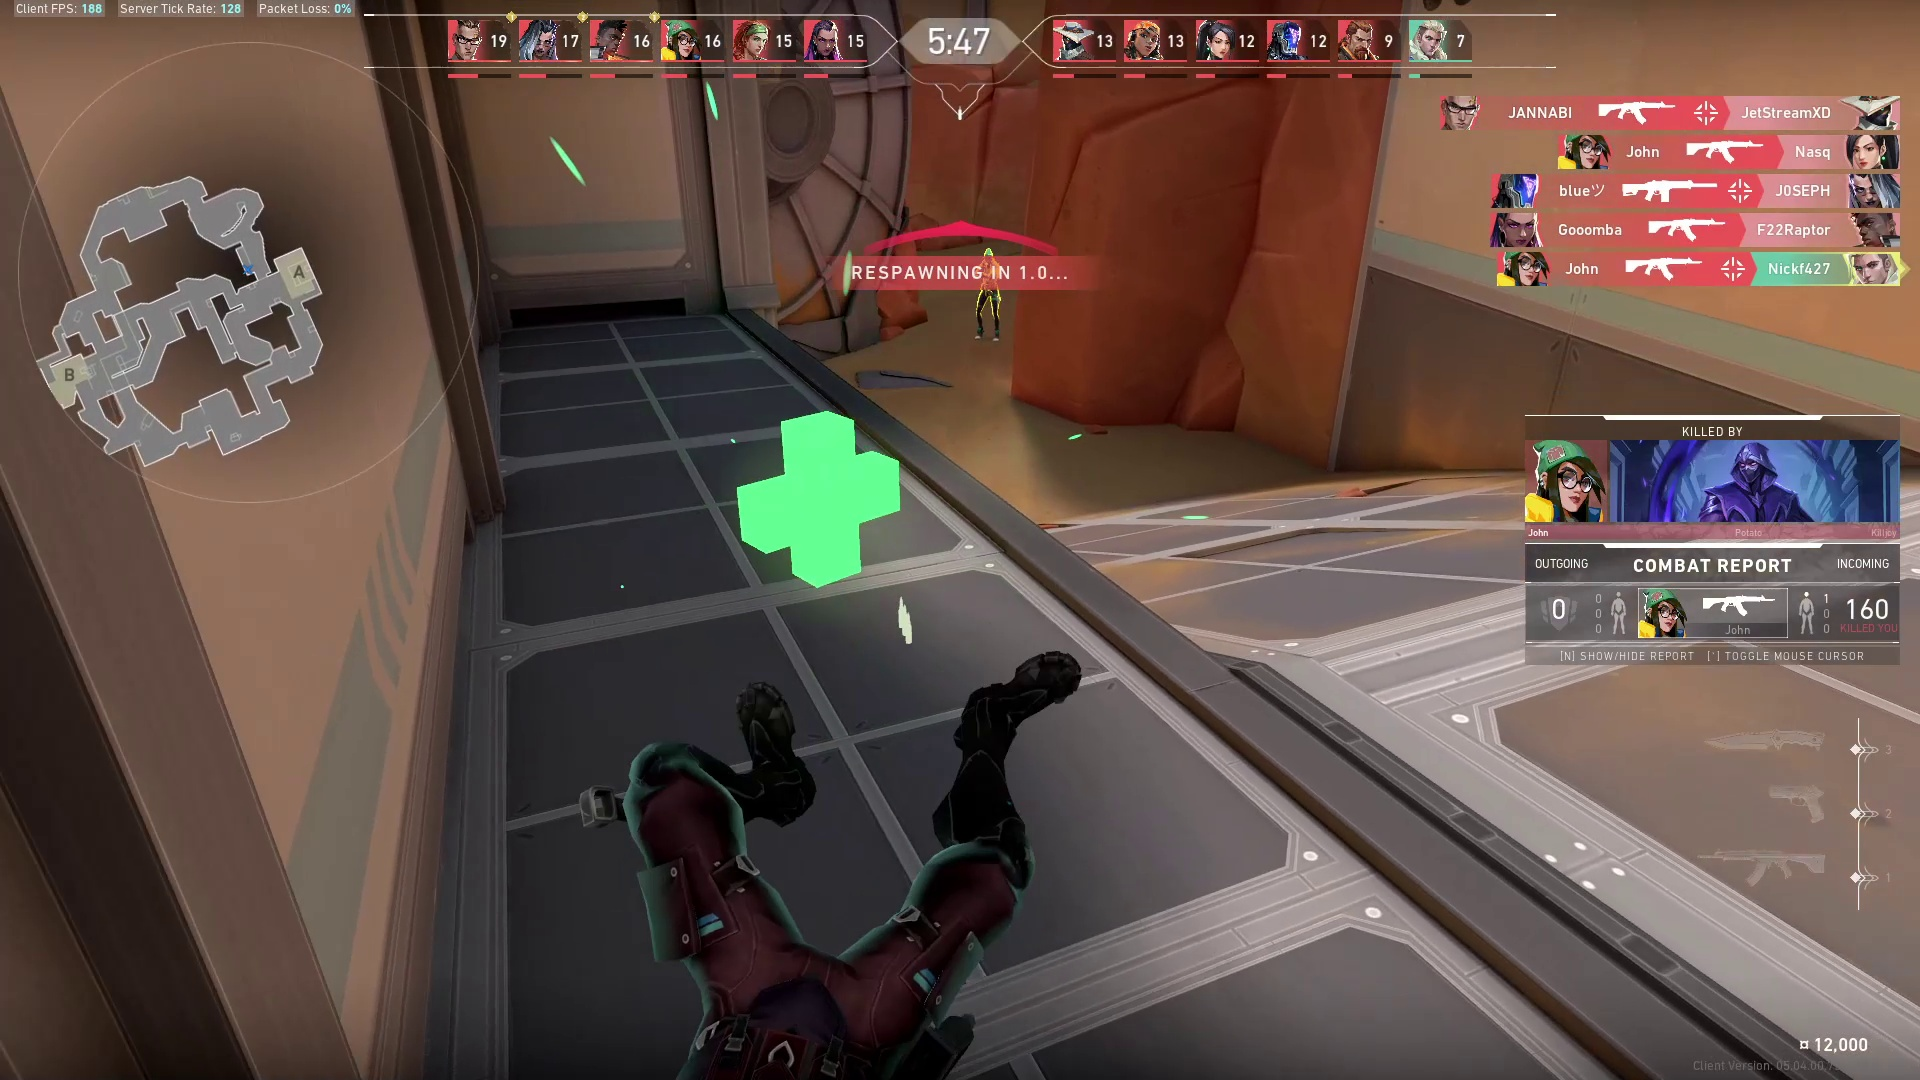enemy_gen: (973, 244, 1005, 342)
